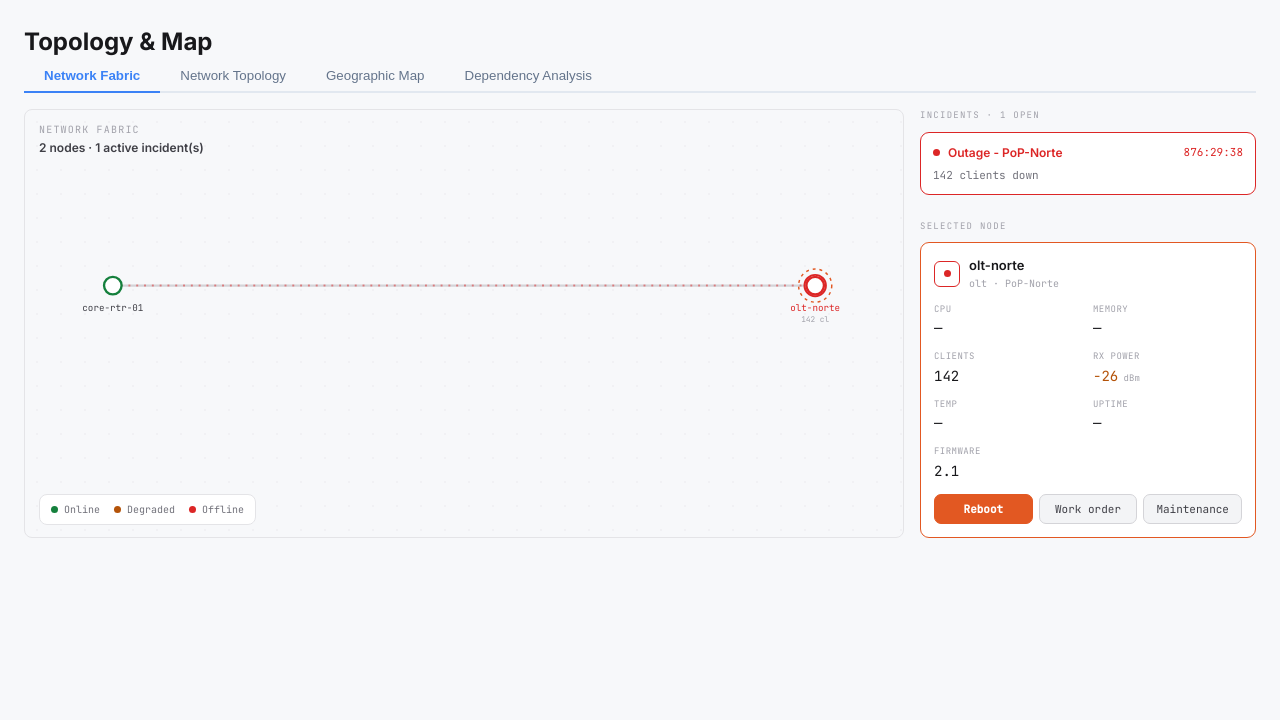
Test: TopologyMapPage (§13) › switching to Dependency tab renders dual-homed section
Step 1. Click the button "Dependency Analysis" → coordinates (528, 76), box x1=444 y1=60 x2=612 y2=93
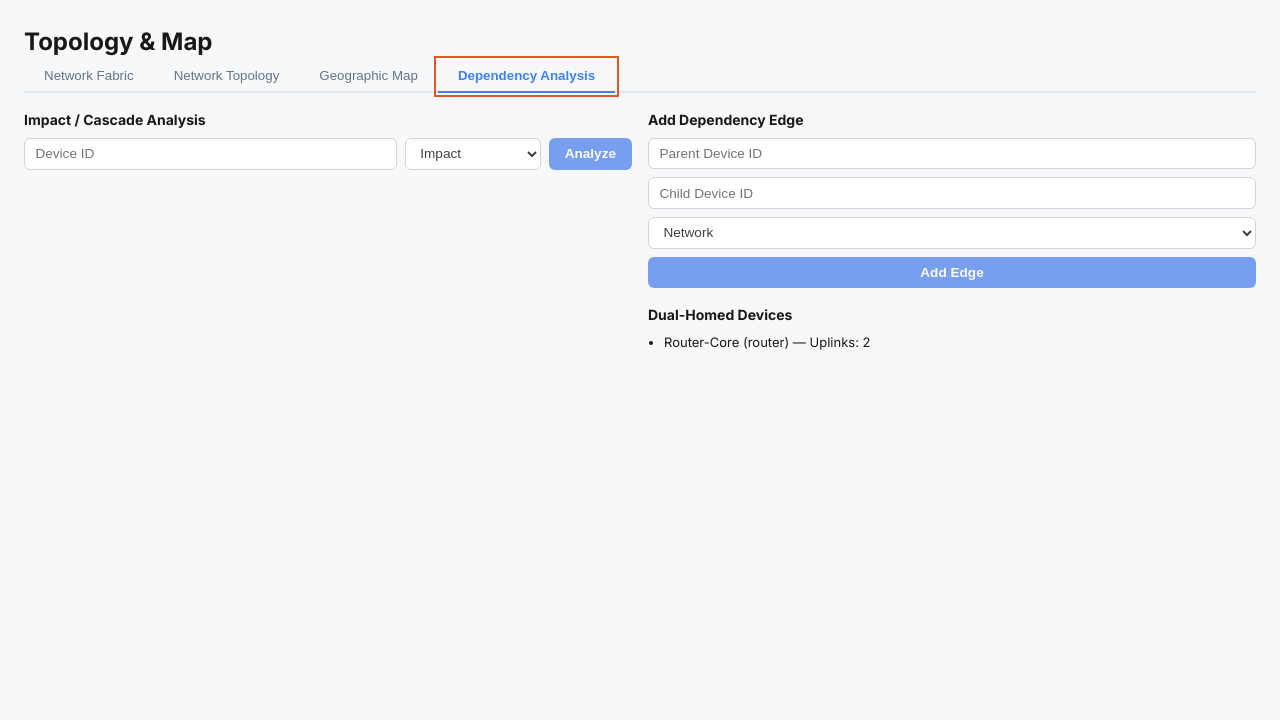
Expected: the list item "Router-Core (router) — Uplinks: 2" is shown, x1=664 y1=334 x2=870 y2=350
